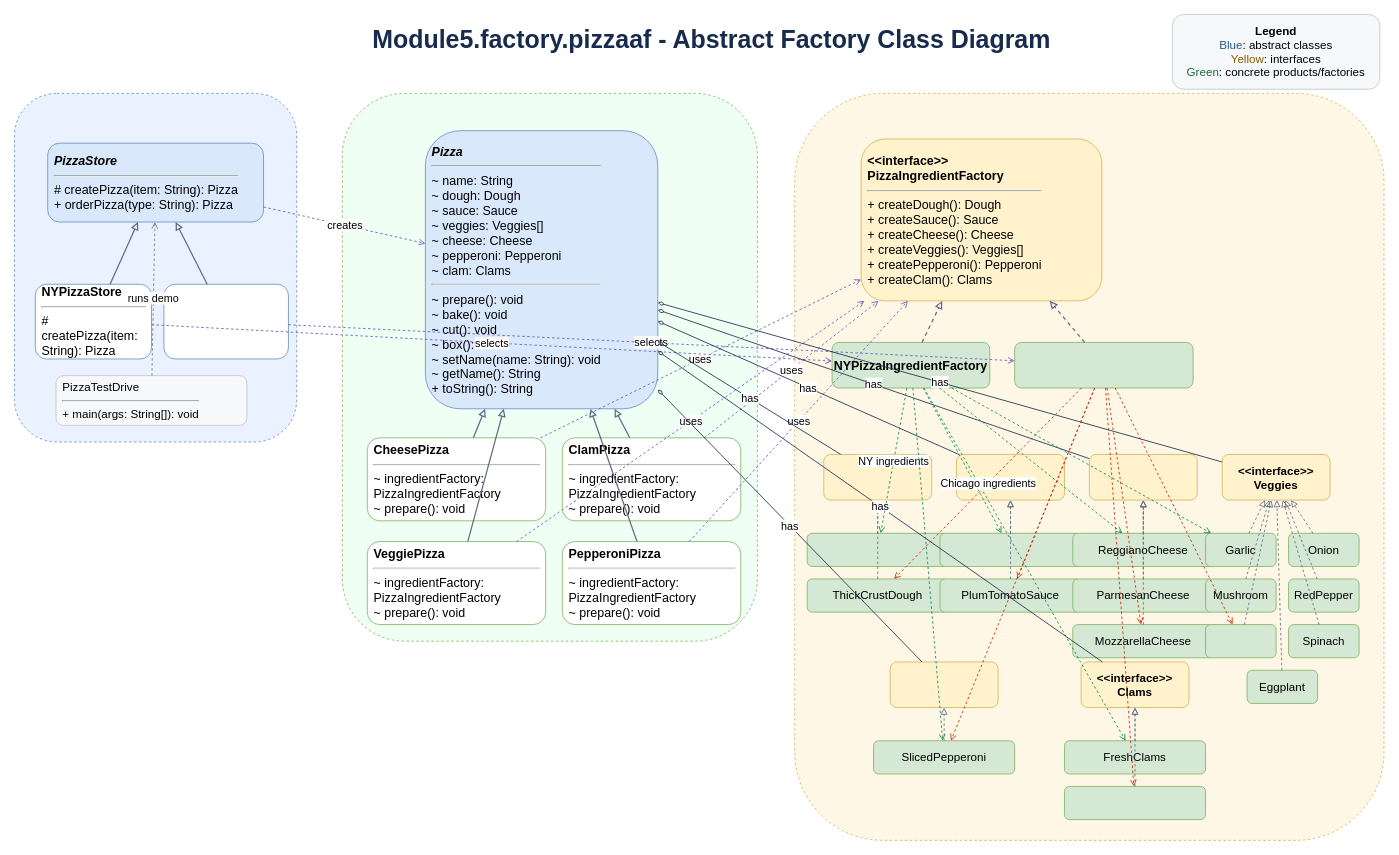
This 1399x855 diagram has some shape labels left out. The box of each missing label's shape, as (x1, y1, x2, y2) in pixels:
<<interface>> Cheese: (1089, 454, 1197, 500)
<<interface>> Dough: (823, 454, 932, 500)
<<interface>> Pepperoni: (889, 661, 998, 708)
<<interface>> Sauce: (956, 454, 1064, 500)
Abstract Factory: Ingredient Families: (794, 93, 1384, 840)
BlackOlives: (1205, 624, 1276, 658)
ChicagoPizzaIngredientFactory: (1014, 342, 1193, 388)
ChicagoPizzaStore # createPizza(item: String): Pizza: (163, 283, 288, 359)
Factory Method: Pizza Stores: (14, 93, 297, 442)
FrozenClams: (1064, 786, 1206, 820)
MarinaraSauce: (939, 532, 1081, 566)
Pizza Product Hierarchy: (342, 93, 757, 641)
ThinCrustDough: (806, 532, 948, 566)
